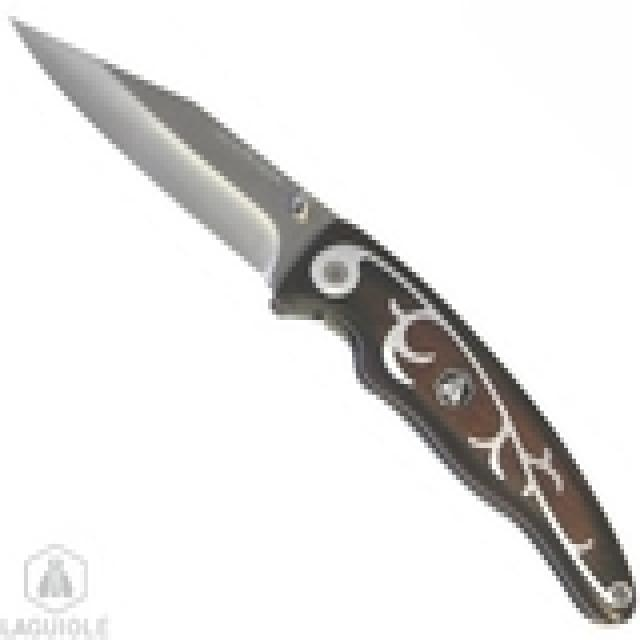Knife: (5, 5, 636, 616)
